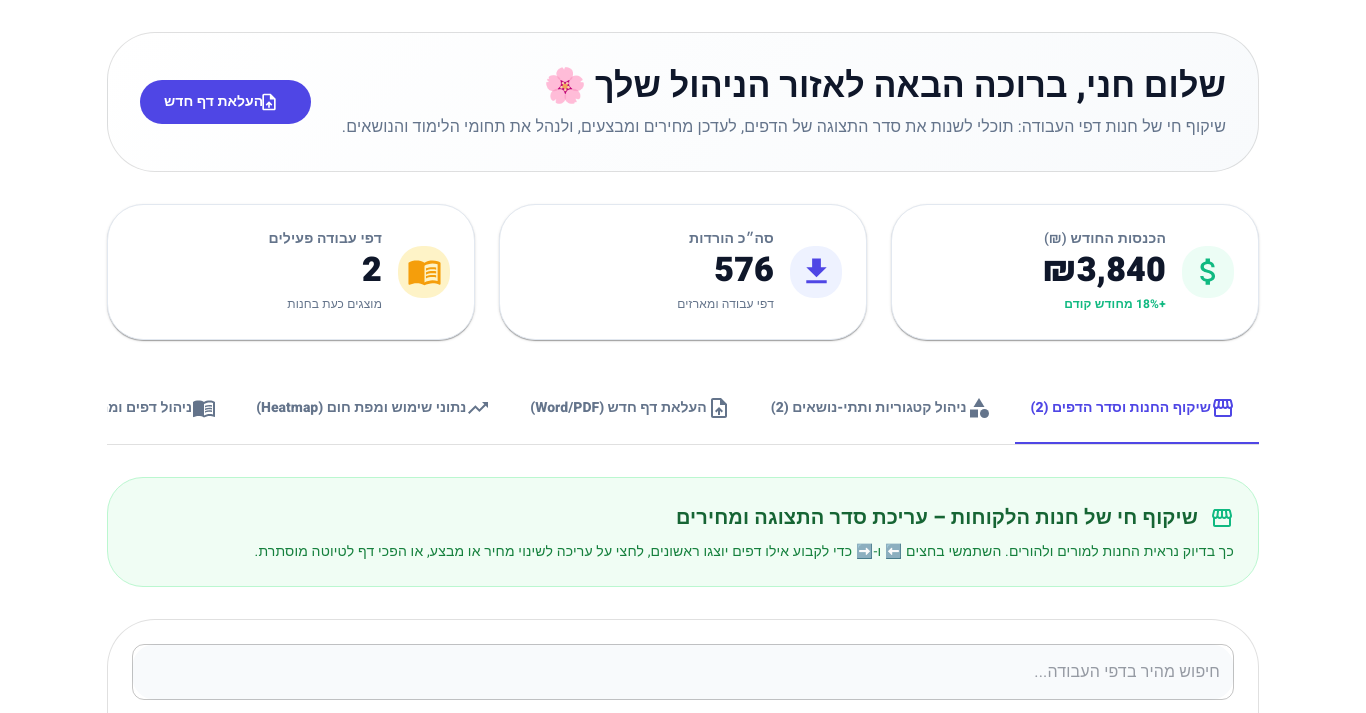
AdminDashboardPage Component with MUI › switches to upload tab when clicked
Step 1. Click the tab "העלאת דף חדש (Word/PDF)" → (634, 408), box [514, 372, 755, 444]
(page scrolled)
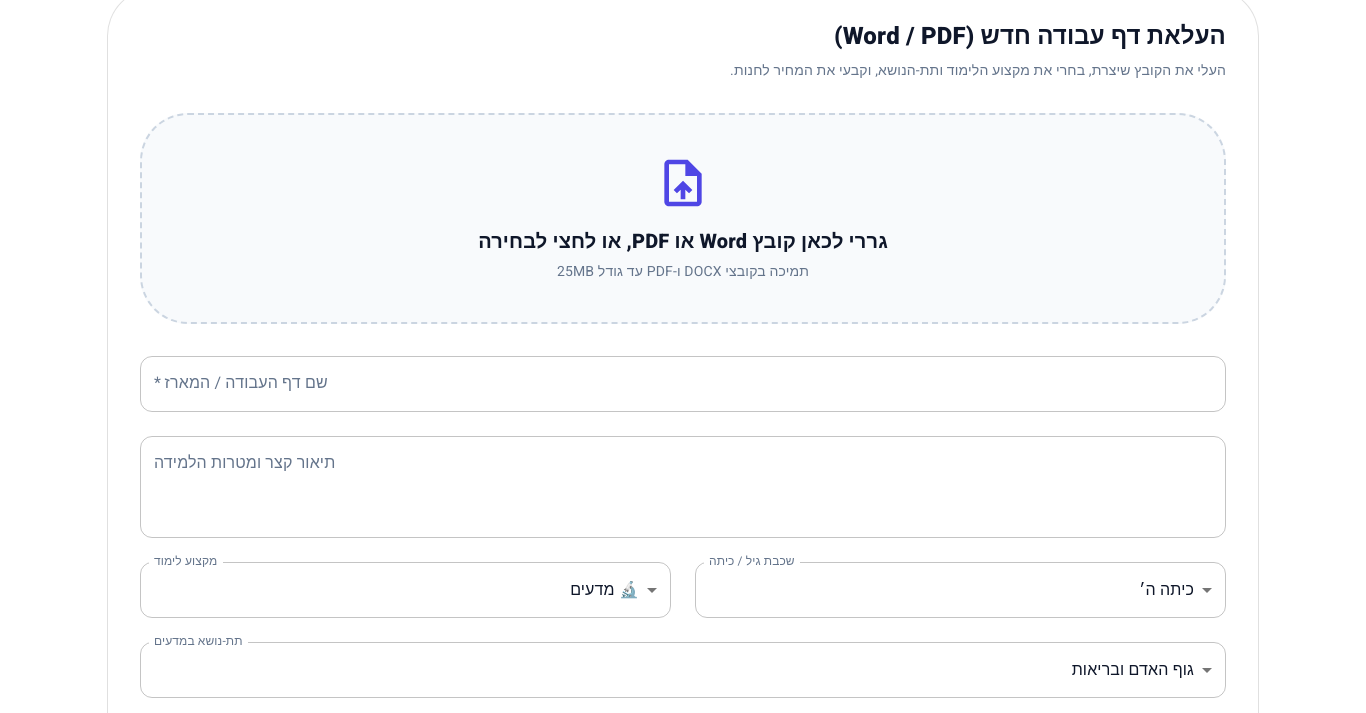
Expected: the field labelled "שם דף העבודה / המארז *" is shown, [140, 356, 1226, 412]
